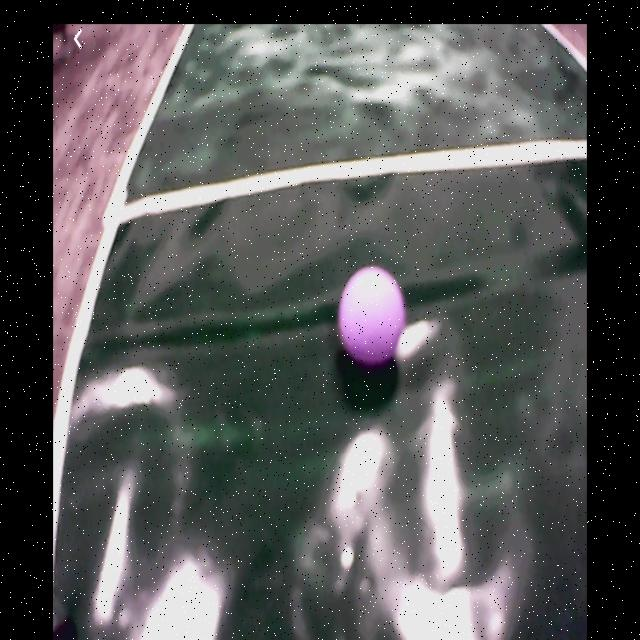ball: (338, 267, 406, 367)
